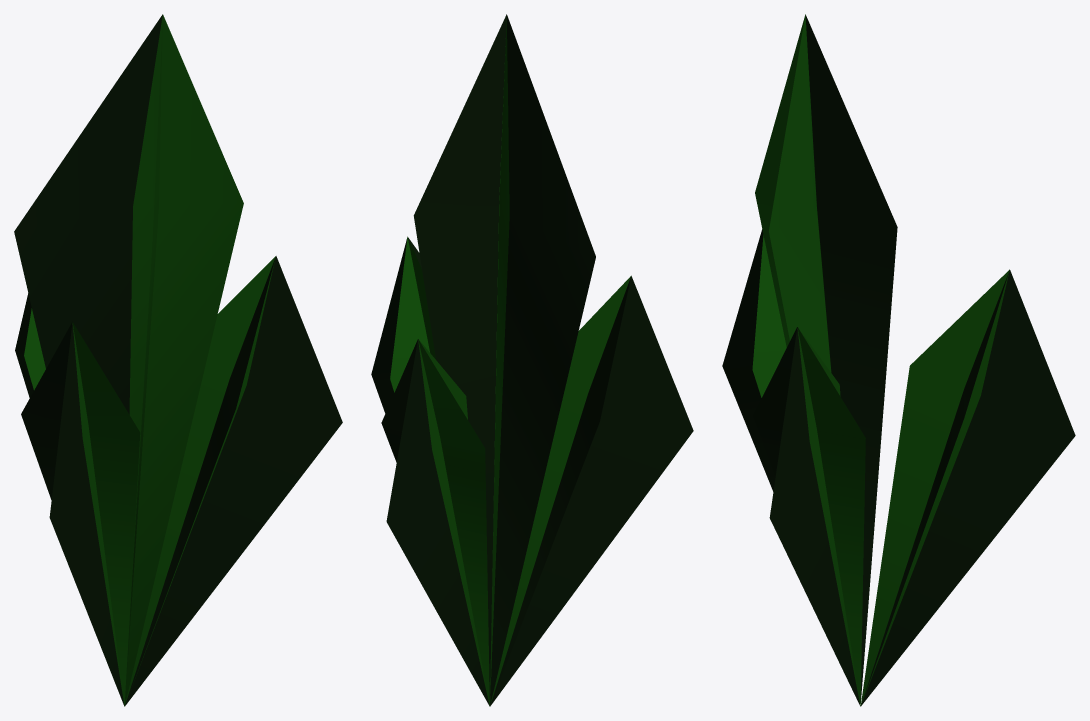
File: grass e.FBX
3 views of the same model, side by side, from view 1: azimuth 30°, elevation 25°; view 2: azimuth 150°, elevation 25°; view 3: azimuth 270°, elevation 25° (orthographic). The views are drawn at different scales.
Parts seen in each view (by area): view 1: grass e; view 2: grass e; view 3: grass e.
Part boxes in pixels (<box>): grass e: <box>14,14,342,706</box>; grass e: <box>371,14,693,706</box>; grass e: <box>722,14,1075,706</box>.
Size of the model in its own units: 0.447 by 0.4391 by 0.9568.
